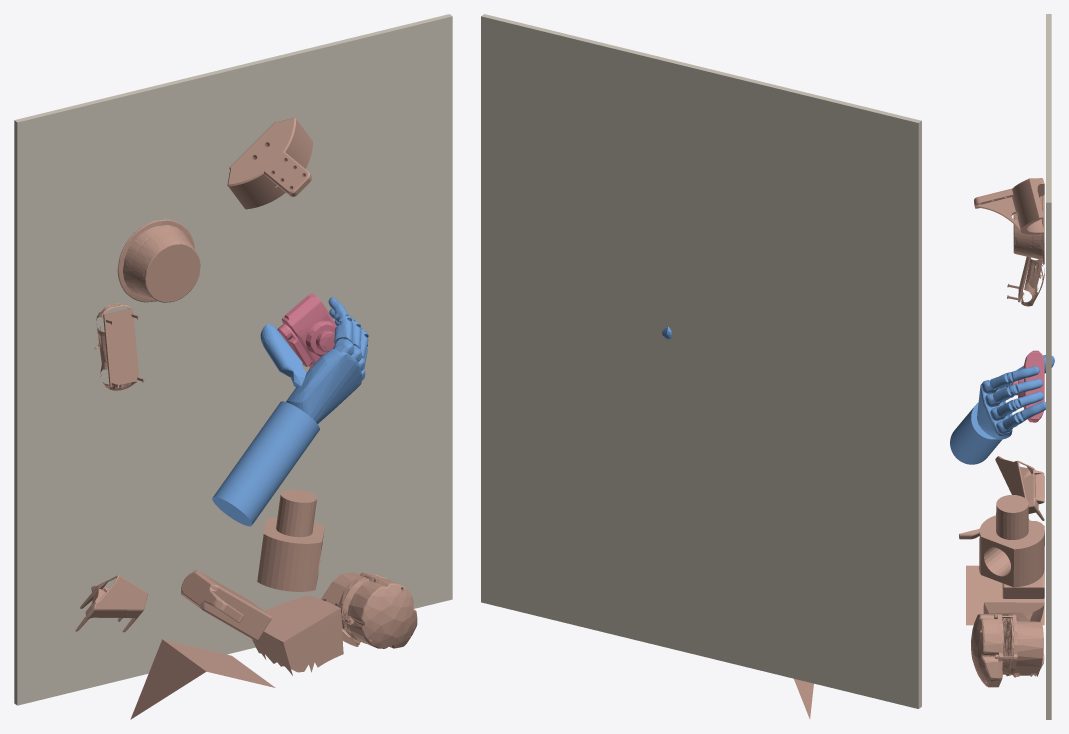
The picture shows the model from 3 angles, left to right: view 1: azimuth 30°, elevation 25°; view 2: azimuth 150°, elevation 25°; view 3: azimuth 270°, elevation 25°; orthographic projection. The views are drawn at different scales.
Visible parts, largest first — view 1: environment, hand, obstacle_004, obstacle_003, obstacle_005, obstacle_001, obstacle_002, obstacle_006, obstacle_000, obstacle_008, world, obstacle_007; view 2: environment; view 3: hand, obstacle_005, obstacle_003, environment, obstacle_001, obstacle_006, obstacle_007, obstacle_004, obstacle_002, obstacle_008, obstacle_000, world.
Boxes of the visible parts, x1,y1,x2,y2 form: environment: (14,14,452,705); hand: (212,297,368,526); obstacle_004: (117,219,200,302); obstacle_003: (321,572,417,648); obstacle_005: (257,489,324,591); obstacle_001: (227,118,312,209); obstacle_002: (252,594,343,675); obstacle_006: (130,639,275,719); obstacle_000: (181,570,271,640); obstacle_008: (94,303,144,390); world: (277,293,336,369); obstacle_007: (75,575,147,632); environment: (481,14,921,708); hand: (950,355,1054,464); obstacle_005: (979,495,1044,587); obstacle_003: (971,614,1044,687); environment: (1046,14,1051,719); obstacle_001: (974,178,1044,234); obstacle_006: (966,565,1044,625); obstacle_007: (995,456,1044,520); obstacle_004: (1013,195,1044,264); obstacle_002: (983,602,1044,621); obstacle_008: (1007,256,1044,306); obstacle_000: (959,521,1044,598); world: (1011,350,1044,422).
Size of the model in its own units: 0.6249 by 0.8563 by 0.1471.
